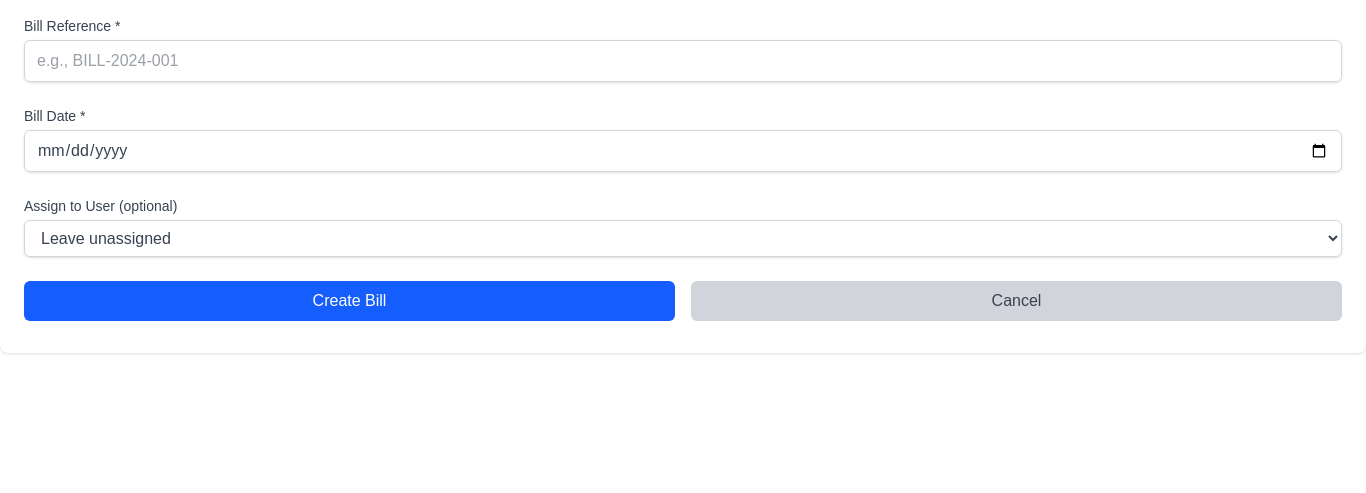
Test case: BillForm › shows error when submitting empty bill reference
Click the button with test id "submit-button".
click(350, 301)  # box 24,281 -> 675,321
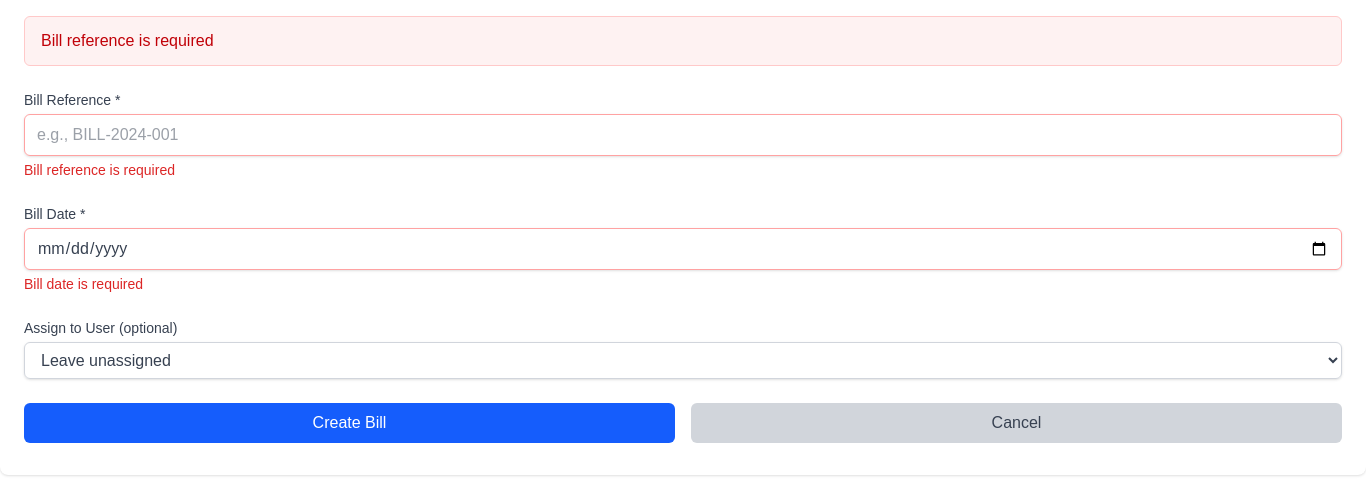
Check: the message with test id "form-error" reads "Bill reference is required", box 41,32 -> 214,49
